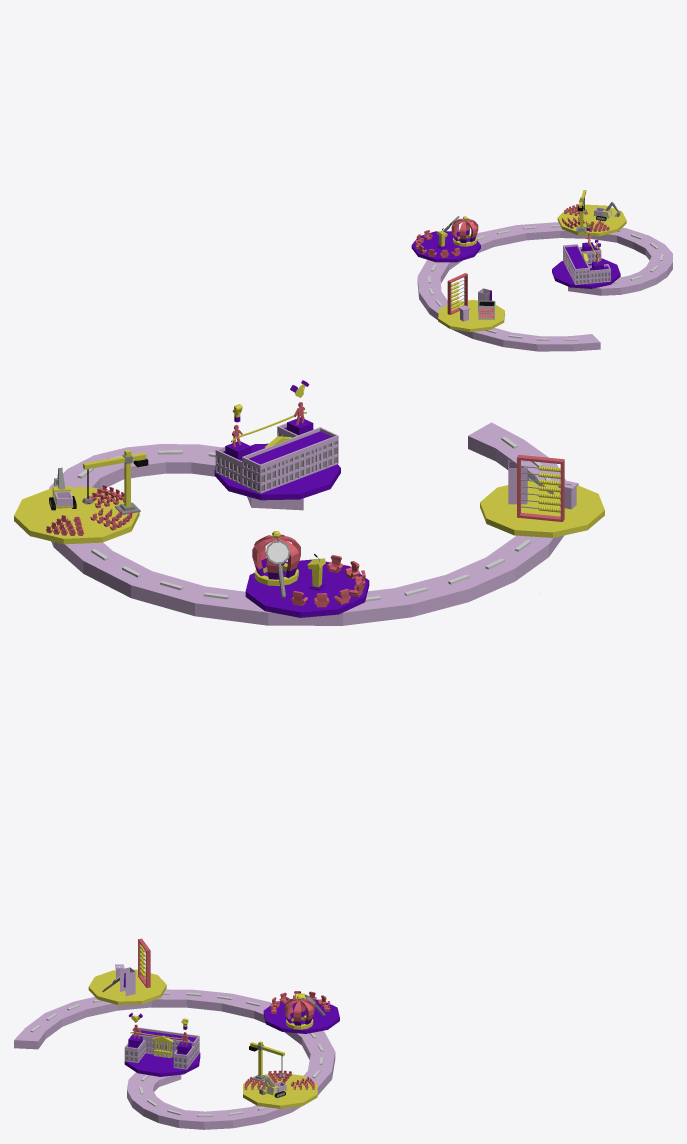
Rendered from 050-post_election.glb.
3 renders of one model, top to bottom at view 1: azimuth 30°, elevation 25°; view 2: azimuth 150°, elevation 25°; view 3: azimuth 270°, elevation 25°, orthographic. The views are drawn at different scales.
Parts seen in each view (by area): view 1: GEO.Road, EVT.Versus, EVT.Votes, EVT.Formation, EVT.Government; view 2: GEO.Road, EVT.Versus, EVT.Formation, EVT.Government, EVT.Votes; view 3: GEO.Road, EVT.Versus, EVT.Votes, EVT.Government, EVT.Formation.
Part boxes in pixels (x1,y1,x2,y2): GEO.Road: (417, 222, 672, 351); EVT.Versus: (552, 220, 620, 288); EVT.Votes: (438, 273, 504, 331); EVT.Formation: (411, 216, 480, 262); EVT.Government: (557, 190, 626, 236); GEO.Road: (49, 422, 565, 625); EVT.Versus: (214, 380, 340, 500); EVT.Formation: (245, 531, 369, 617); EVT.Government: (14, 449, 148, 544); EVT.Votes: (480, 454, 604, 537); GEO.Road: (14, 989, 335, 1129); EVT.Versus: (124, 1013, 200, 1076); EVT.Votes: (88, 938, 166, 1004); EVT.Government: (243, 1041, 317, 1108); EVT.Formation: (263, 991, 339, 1033).
Size of what is drawn, in the model's own units: 4.19 by 1.49 by 4.32.
